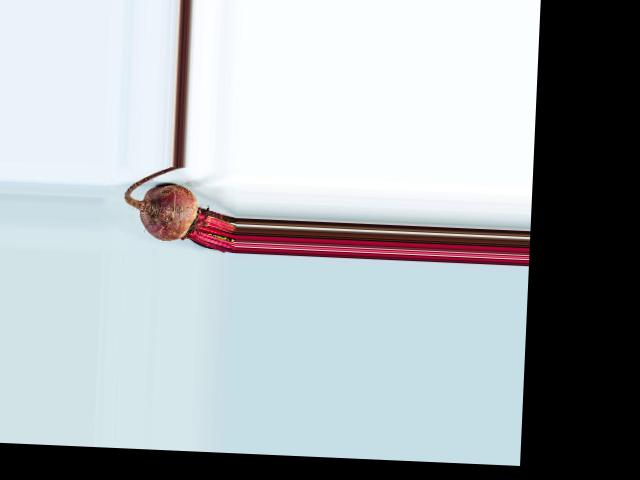beet: (122, 165, 240, 253)
